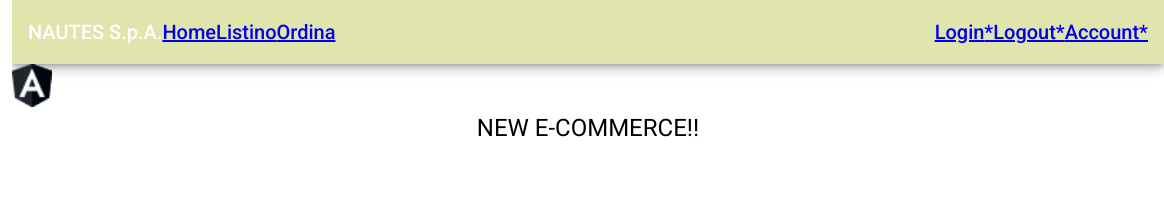
Test case: Nautes E-Commerce e2e Testing › shows the LOGIN page
Click the link with class "button4": (960, 32) left=935, top=16, right=985, bottom=48
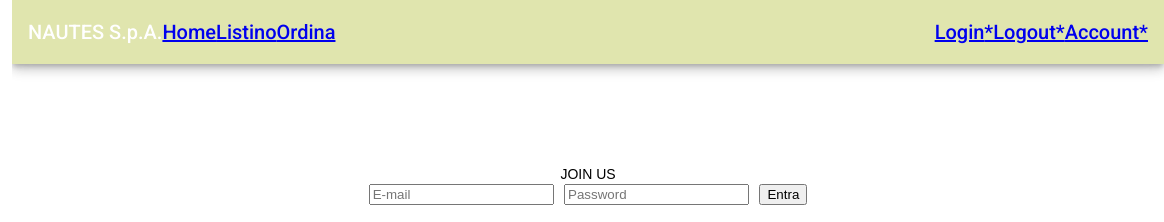
Expected: the element showing "JOIN US Entra" is shown, left=369, top=166, right=807, bottom=205
